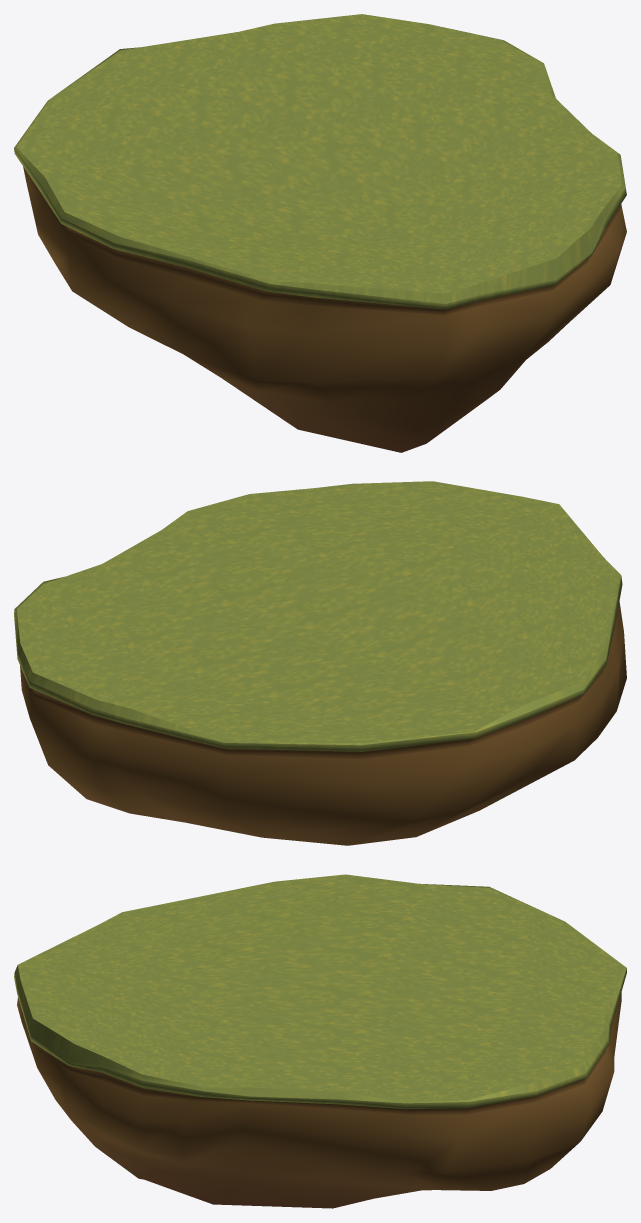
The model's file is obj_IsleMid.fbx.
3 renders of one model, top to bottom at view 1: azimuth 30°, elevation 25°; view 2: azimuth 150°, elevation 25°; view 3: azimuth 270°, elevation 25°, orthographic. The views are drawn at different scales.
Visible parts, largest first — view 1: obj_IsleMid; view 2: obj_IsleMid; view 3: obj_IsleMid.
Boxes of the visible parts, x1,y1,x2,y2 form: obj_IsleMid: (14,14,626,452); obj_IsleMid: (14,481,626,845); obj_IsleMid: (14,874,626,1208).
Size of the model in its own units: 6208 by 2714 by 6980.
